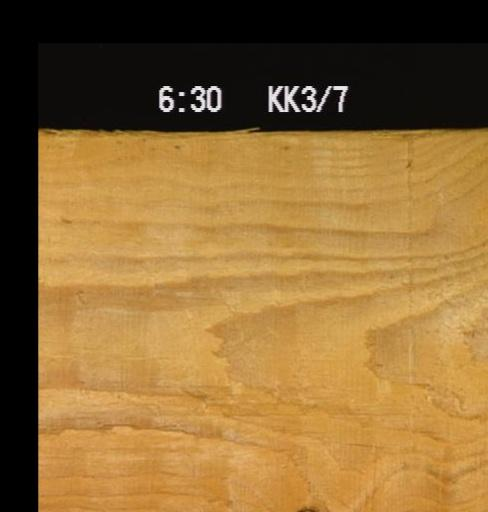wave: (38, 128, 396, 163)
